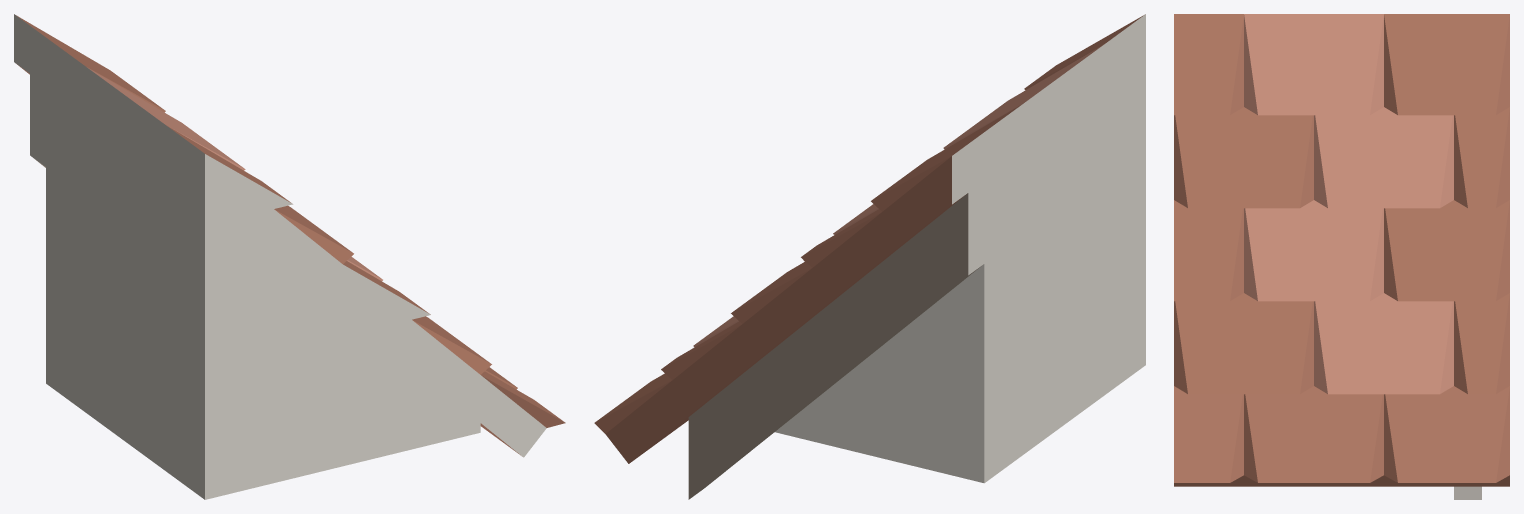
File: object1_080-col.gltf
3 renders of one model, left to right at view 1: azimuth 30°, elevation 25°; view 2: azimuth 150°, elevation 25°; view 3: azimuth 270°, elevation 25°, orthographic. The views are drawn at different scales.
Parts seen in each view (by area): view 1: object1.080-col; view 2: object1.080-col; view 3: object1.080-col.
Part boxes in pixels (x1,y1,x2,y2): object1.080-col: (14,14,565,499); object1.080-col: (594,14,1145,499); object1.080-col: (1174,14,1509,499).
Bounding box in the file's own units: 1.31 × 1.45 × 1.2.
